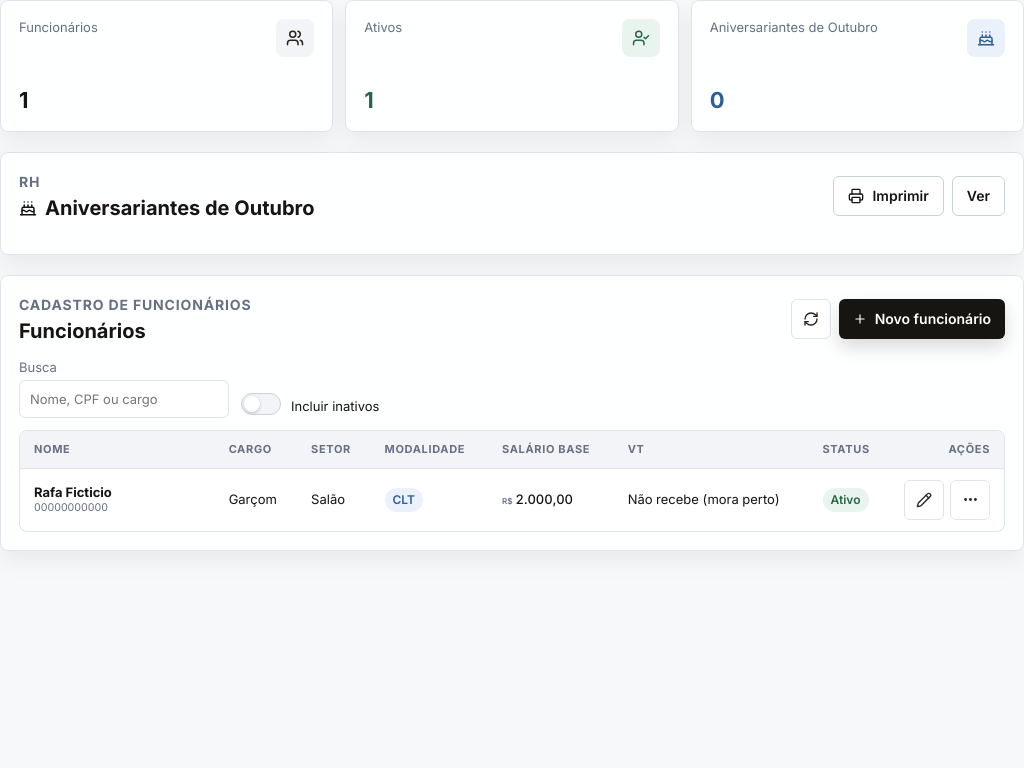
Test: ficha: forma de pagamento do sem registro › CLT: só o adiantamento informativo, sem a opção de quinzena
The width and height of the screenshot is (1024, 768).
Step 1. Click the button named "Editar" → (924, 500), box [904,480,944,520]
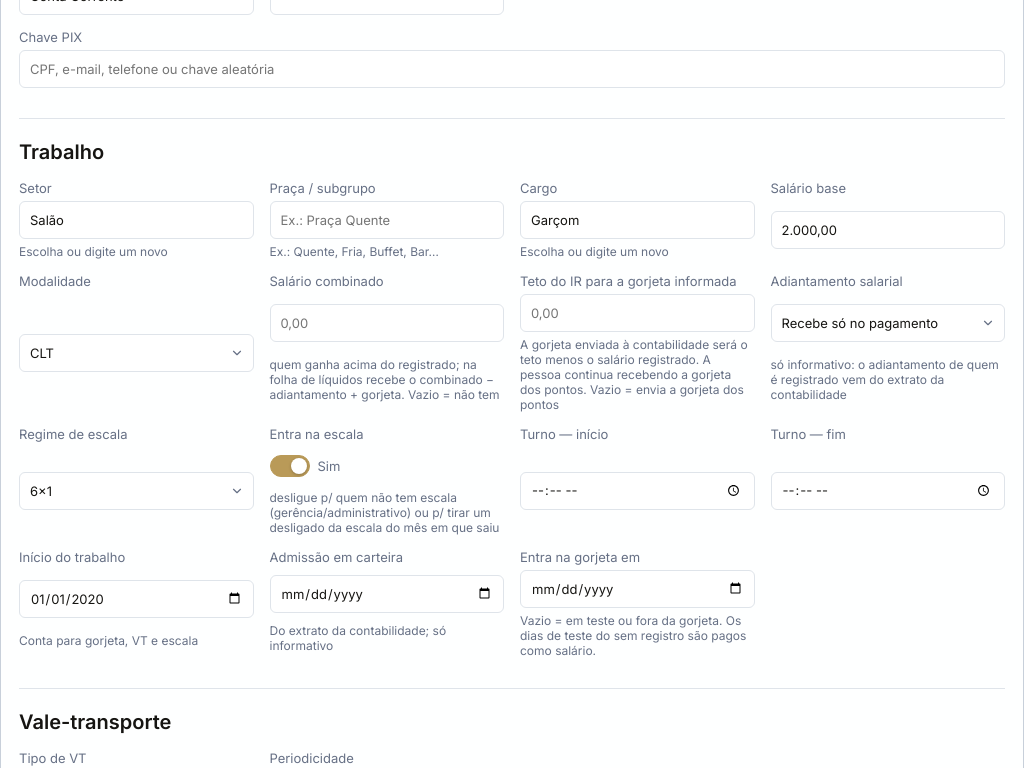
Check: the dropdown labelled "Adiantamento salarial" is shown, box [770,304,1005,342]
Check: the text "o adiantamento de quem é registrado vem do extrato" is shown, box [770,356,999,402]
